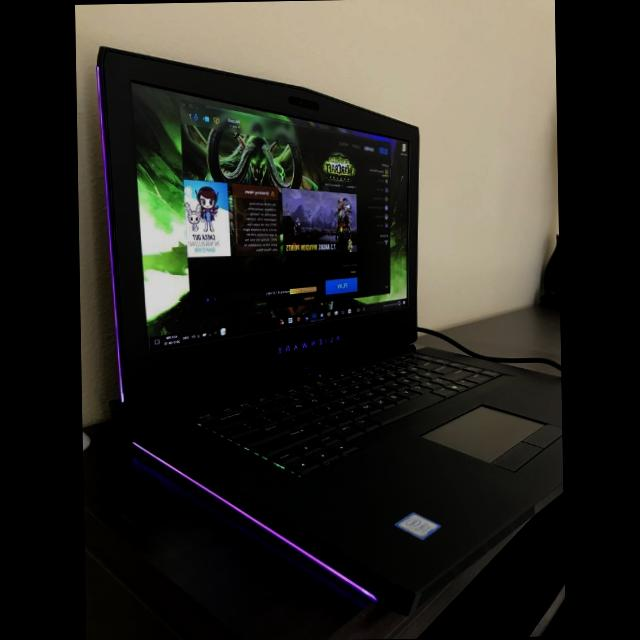laptop: (92, 32, 566, 622)
